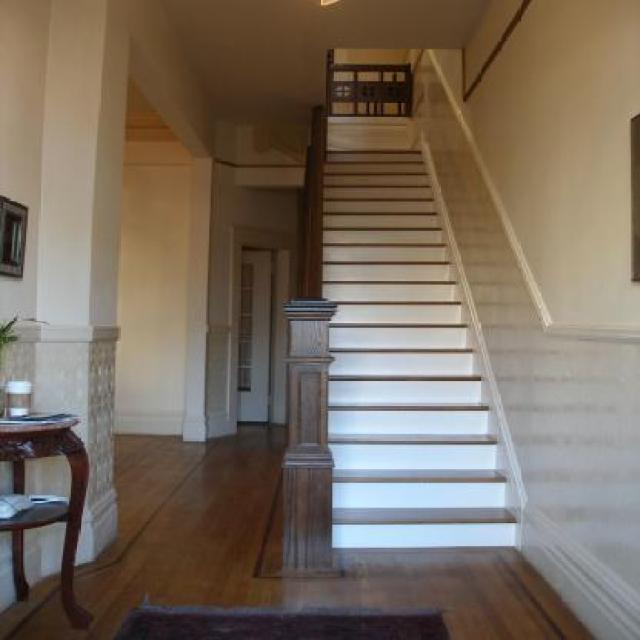stair: (324, 146, 522, 549)
